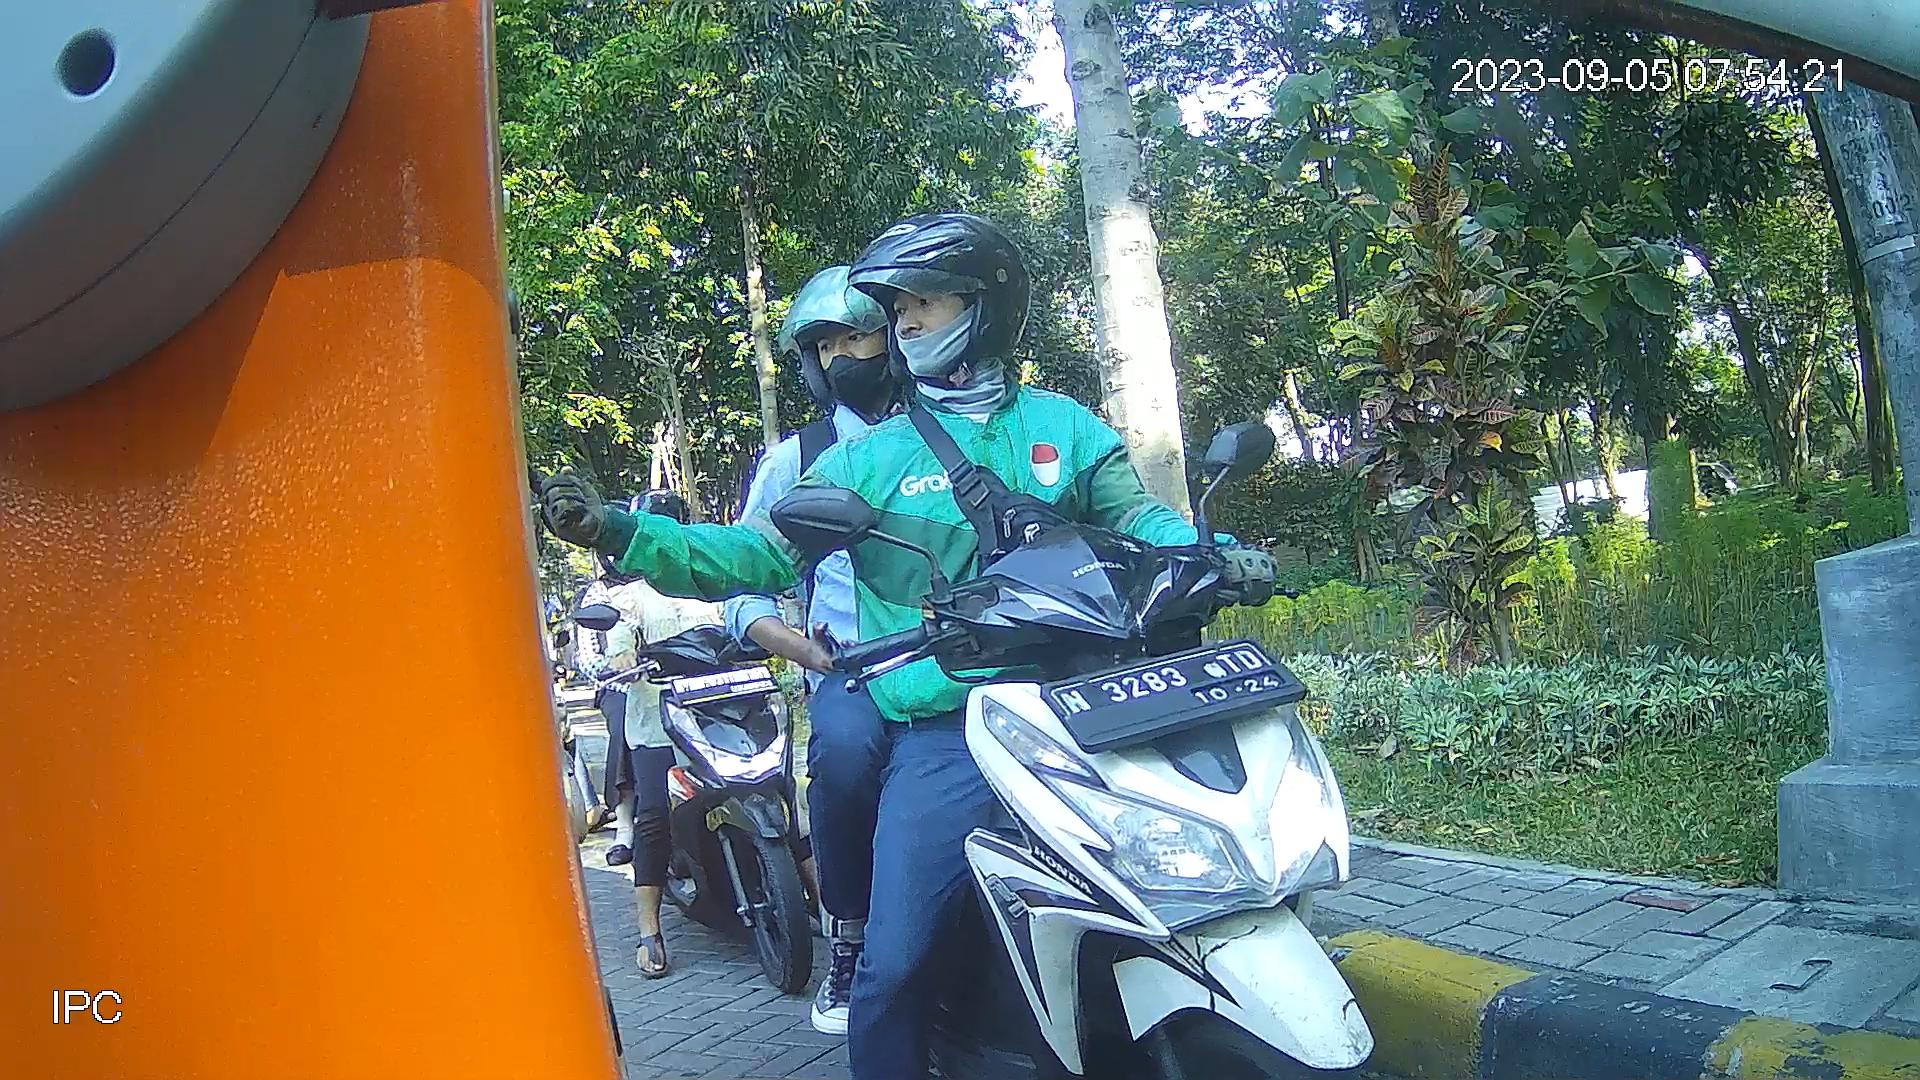plat: (1034, 634, 1321, 754)
